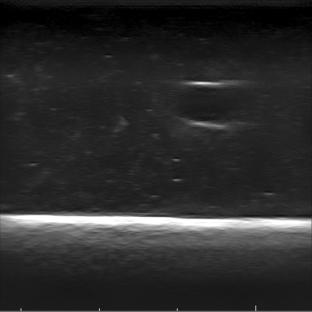vessel: (171, 81, 250, 129)
